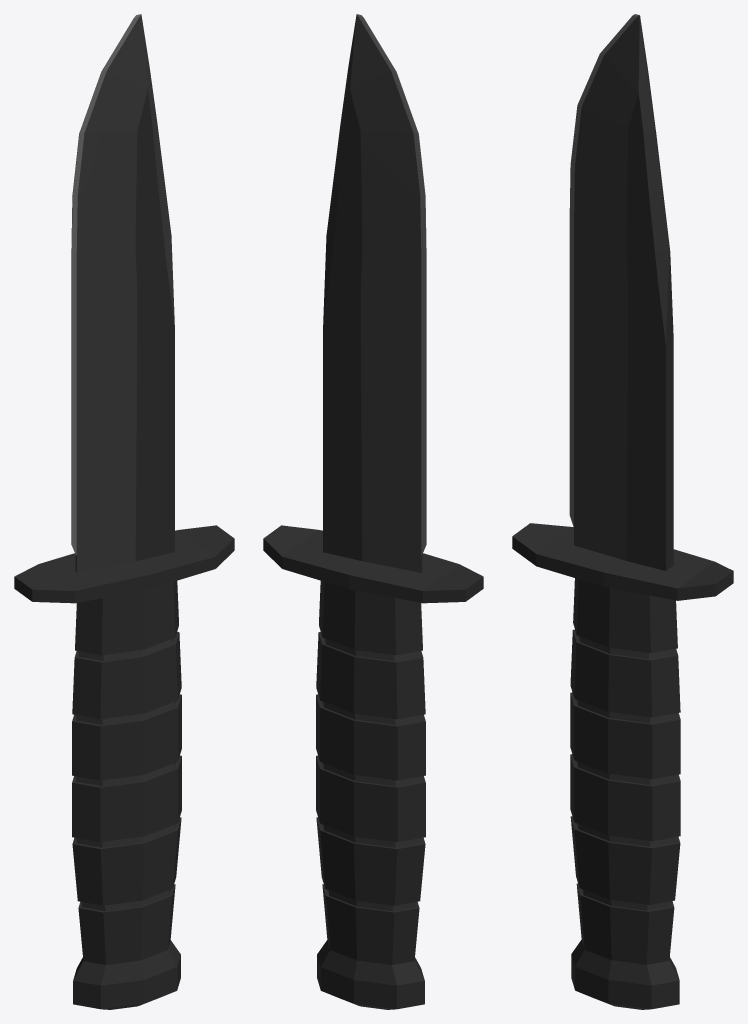
The model's file is Knife_01.fbx.
3 views of the same model, side by side, from view 1: azimuth 30°, elevation 25°; view 2: azimuth 150°, elevation 25°; view 3: azimuth 330°, elevation 25° (orthographic).
Parts seen in each view (by area): view 1: Knife_01; view 2: Knife_01; view 3: Knife_01.
Part boxes in pixels (x1,y1,x2,y2): Knife_01: [14, 14, 234, 1009]; Knife_01: [263, 14, 483, 1009]; Knife_01: [512, 14, 733, 1009].
Bounding box in the file's own units: 0.0767 × 0.3557 × 0.0281.
